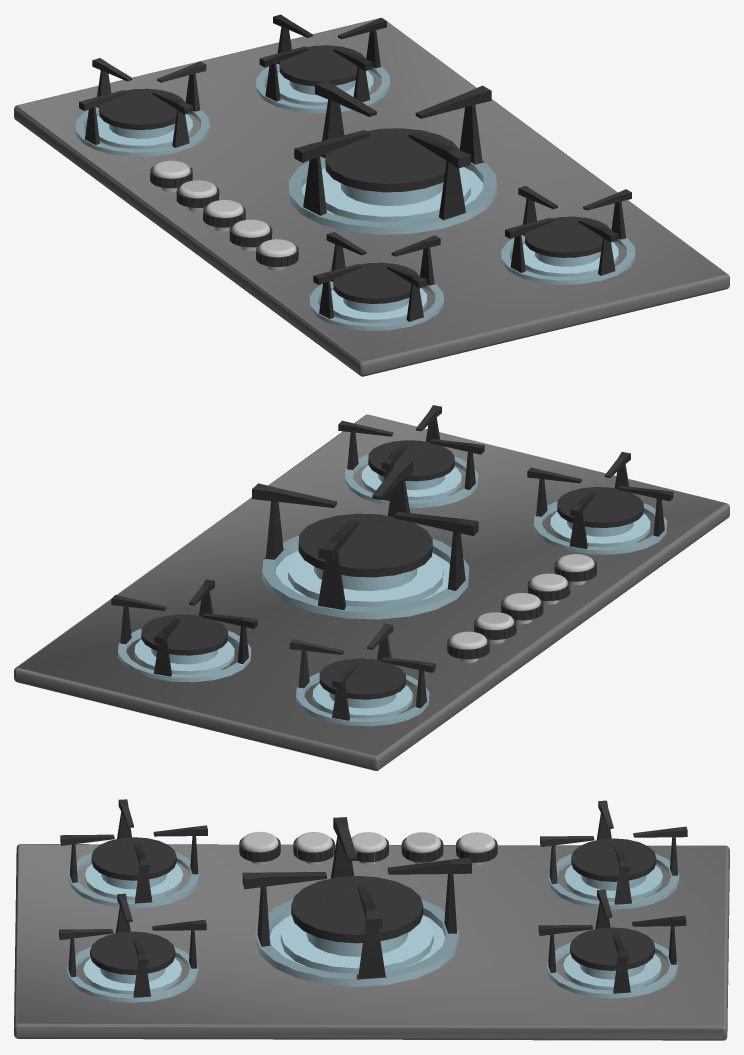
Rendered from Stove.fbx.
3 views of the same model, one above another, from view 1: azimuth 30°, elevation 25°; view 2: azimuth 150°, elevation 25°; view 3: azimuth 270°, elevation 25° (orthographic).
Visible parts, largest first — view 1: stove; view 2: stove; view 3: stove.
Boxes of the visible parts, x1,y1,x2,y2 form: stove: (14, 14, 729, 376); stove: (14, 405, 729, 770); stove: (14, 799, 729, 1040).
Size of the model in its own units: 48.77 by 10.91 by 80.11.
1 material, 1 textured.
